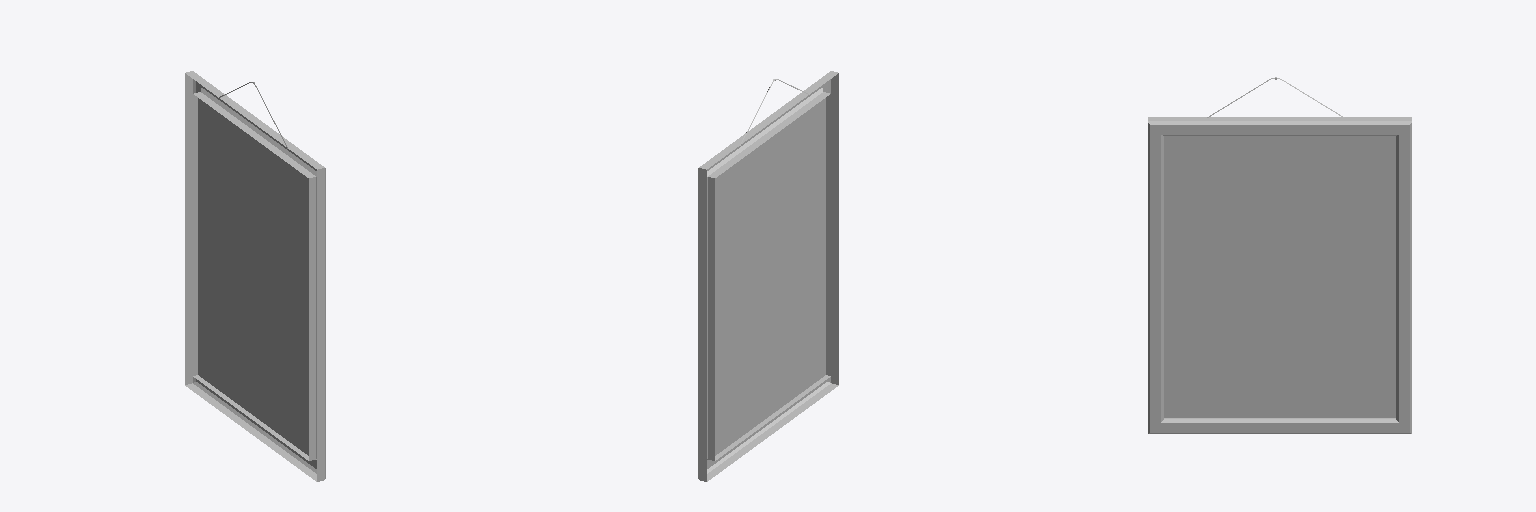
File: Painting02a.obj
3 views of the same model, side by side, from view 1: azimuth 30°, elevation 25°; view 2: azimuth 150°, elevation 25°; view 3: azimuth 270°, elevation 25° (orthographic).
Visible parts, largest first — view 1: Painting02a_LOD0_Painting01a_LOD0.002; view 2: Painting02a_LOD0_Painting01a_LOD0.002; view 3: Painting02a_LOD0_Painting01a_LOD0.002.
Part boxes in pixels (left/top/right/bottom): Painting02a_LOD0_Painting01a_LOD0.002: left=185, top=71, right=325, bottom=481; Painting02a_LOD0_Painting01a_LOD0.002: left=698, top=71, right=838, bottom=481; Painting02a_LOD0_Painting01a_LOD0.002: left=1148, top=77, right=1411, bottom=433.
Size of the model in its own units: 0.0375 by 1.22 by 0.8265.